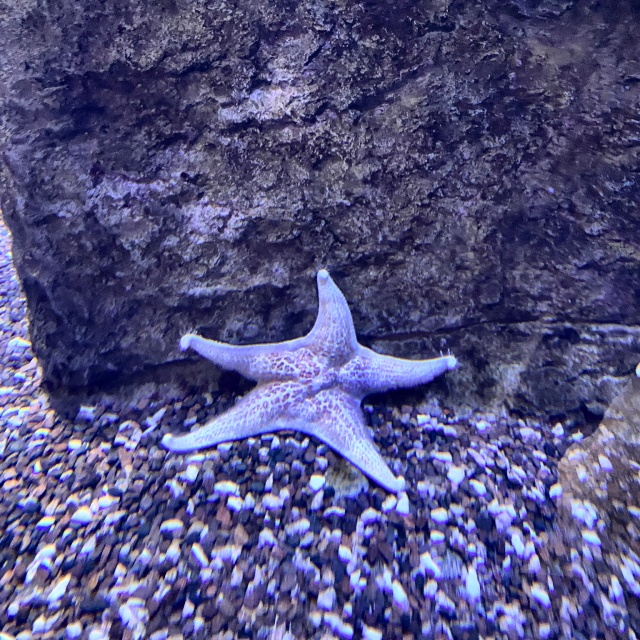starfish: (167, 267, 470, 490)
